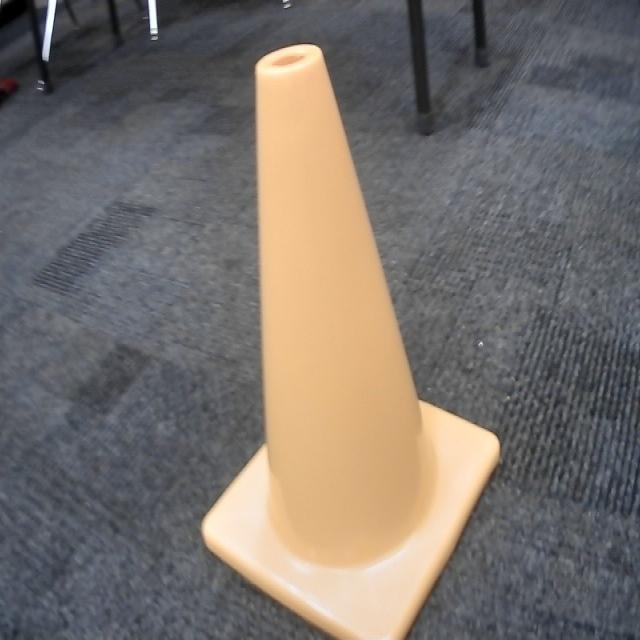cone: (200, 41, 500, 640)
